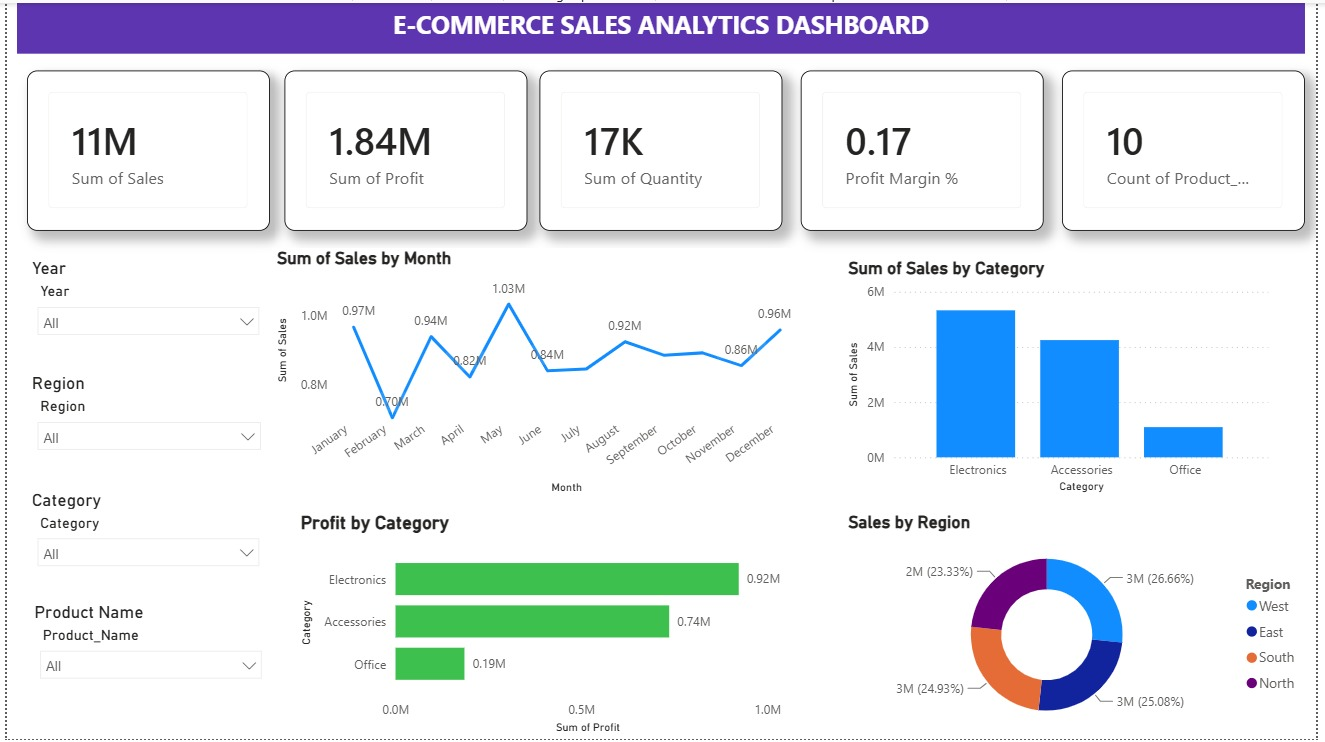

Layout of this report page (visuals, bound fields, positions):
{"tool":"powerbi","page":{"name":"E-Commerce Sales Analytics Dashboard","canvas":[1280,720],"ordinal":0},"visuals":[{"type":"textbox","box":[9.6,0,1259.7,49.4],"z":0},{"type":"cardVisual","fields":{"Data":["Sum(ecommerce_sales_cleaned.Sales)"]},"box":[19.2,65.9,237.4,156.4],"z":1000},{"type":"cardVisual","fields":{"Data":["Sum(ecommerce_sales_cleaned.Profit)"]},"box":[271.7,65.9,237.4,156.4],"z":2000},{"type":"cardVisual","fields":{"Data":["Sum(ecommerce_sales_cleaned.Quantity)"]},"box":[521.4,65.9,237.4,156.4],"z":3000},{"type":"cardVisual","fields":{"Data":["ecommerce_sales_cleaned.Profit Margin %"]},"box":[776.7,65.9,237.4,156.4],"z":4000},{"type":"cardVisual","fields":{"Data":["Count(ecommerce_sales_cleaned.Product_Name)"]},"box":[1031.9,65.9,237.4,156.4],"z":5000},{"type":"slicer","title":"Year","fields":{"Values":["ecommerce_sales_cleaned.Year"]},"box":[19.2,249.7,237.4,100.2],"z":6000},{"type":"slicer","title":"Region","fields":{"Values":["ecommerce_sales_cleaned.Region"]},"box":[19.1,362.4,238.4,93],"z":7000},{"type":"slicer","title":"Category","fields":{"Values":["ecommerce_sales_cleaned.Category"]},"box":[19.1,475.6,237.2,91.8],"z":8000},{"type":"slicer","title":"Product Name","fields":{"Values":["ecommerce_sales_cleaned.Product_Name"]},"box":[21.5,585.3,237.2,89.4],"z":9000},{"type":"donutChart","title":"Sales by Region","fields":{"Category":["ecommerce_sales_cleaned.Region"],"Y":["Sum(ecommerce_sales_cleaned.Sales)"]},"box":[817.7,498.3,462.5,221.7],"z":11000},{"type":"clusteredColumnChart","title":" Sum of Sales by Category","fields":{"Category":["ecommerce_sales_cleaned.Category"],"Y":["Sum(ecommerce_sales_cleaned.Sales)"]},"box":[817.5,250,421.2,235],"z":12000},{"type":"clusteredBarChart","title":"Profit by Category","fields":{"Category":["ecommerce_sales_cleaned.Category"],"Y":["Sum(ecommerce_sales_cleaned.Profit)"]},"box":[282.5,498.3,493.5,221.7],"z":13000},{"type":"lineChart","title":"Sum of Sales by Month","fields":{"Y":["Sum(ecommerce_sales_cleaned.Sales)"],"Category":["ecommerce_sales_cleaned.Order_Date.Variation.Date Hierarchy.Month"]},"box":[258.8,240,517.5,245],"z":15000}]}

Visuals, with their boxes in screenshot pixels (x1, y1, x2, y2), scaled from the page's 1280x720 canvas onto the 1325x742 screenshot:
textbox: rect(10, 0, 1314, 51)
cardVisual - Sum(ecommerce_sales_cleaned.Sales): rect(20, 68, 266, 229)
cardVisual - Sum(ecommerce_sales_cleaned.Profit): rect(281, 68, 527, 229)
cardVisual - Sum(ecommerce_sales_cleaned.Quantity): rect(540, 68, 785, 229)
cardVisual - ecommerce_sales_cleaned.Profit Margin %: rect(804, 68, 1050, 229)
cardVisual - Count(ecommerce_sales_cleaned.Product_Name): rect(1068, 68, 1314, 229)
"Year" slicer: rect(20, 257, 266, 361)
"Region" slicer: rect(20, 373, 267, 469)
"Category" slicer: rect(20, 490, 265, 585)
"Product Name" slicer: rect(22, 603, 268, 695)
"Sales by Region" donutChart: rect(846, 514, 1324, 741)
" Sum of Sales by Category" clusteredColumnChart: rect(846, 258, 1282, 500)
"Profit by Category" clusteredBarChart: rect(292, 514, 803, 741)
"Sum of Sales by Month" lineChart: rect(268, 247, 804, 500)
